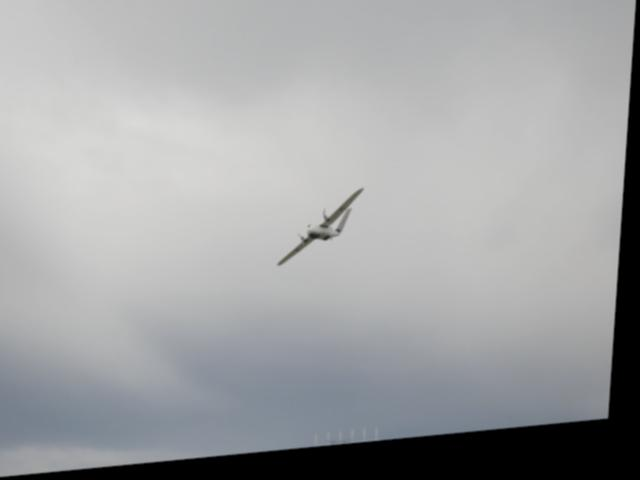plane: (284, 195, 367, 271)
